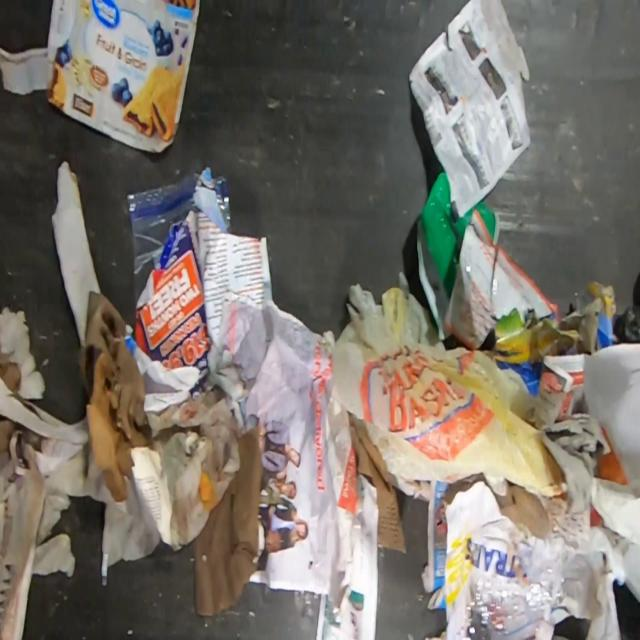cardboard: (0, 0, 200, 153), (0, 418, 76, 640), (484, 278, 621, 397), (0, 304, 91, 445), (347, 412, 408, 554)
rigid_plastic: (416, 172, 500, 340)
soft_plastic: (330, 271, 567, 499), (126, 170, 201, 307), (454, 561, 568, 640), (214, 174, 232, 234), (624, 305, 640, 342)
